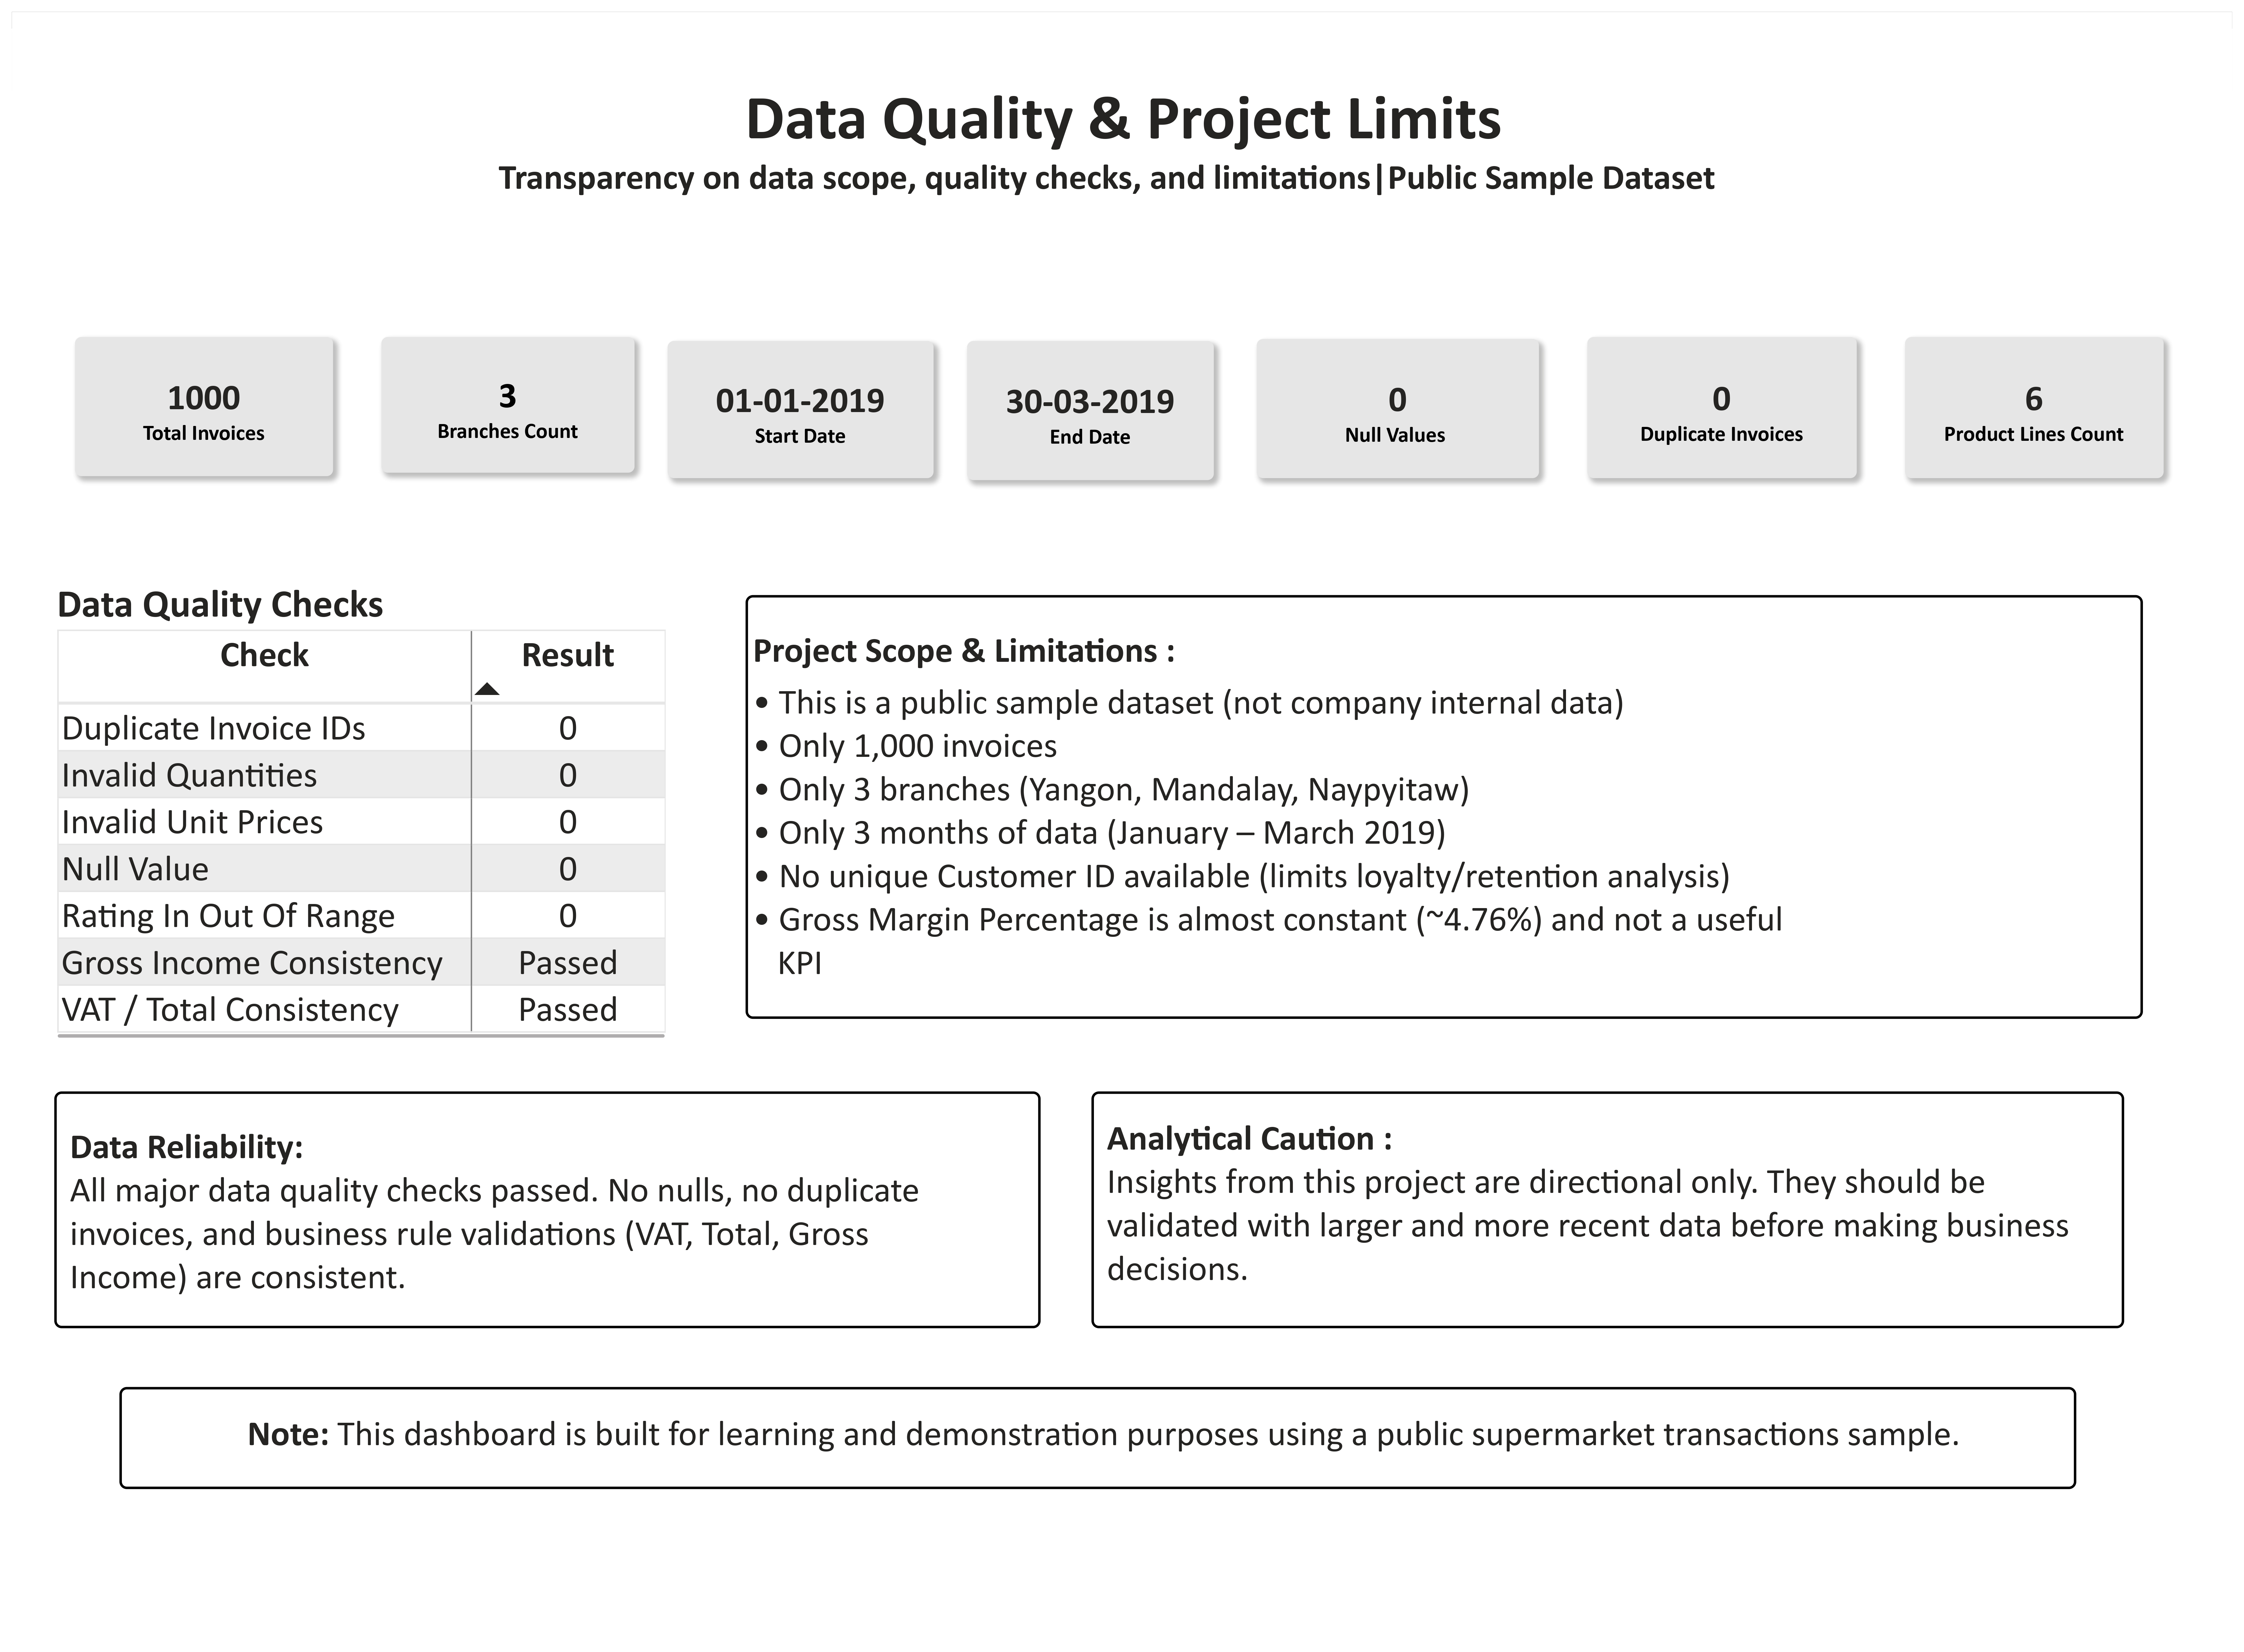

The dashboard page shown, as its layout file describes it:
{"tool":"powerbi","page":{"name":"Page 5","canvas":[4500,3300],"ordinal":4},"visuals":[{"type":"card","fields":{"Values":["super_market_retail.Total Invoices"]},"box":[128,659,523.4,282.4],"z":0},{"type":"card","fields":{"Values":["super_market_retail.Number of Branches"]},"box":[749.4,659,512.1,274.9],"z":1000},{"type":"card","fields":{"Values":["super_market_retail.Start Date"]},"box":[1329.3,666.5,538.5,278.7],"z":2000},{"type":"card","fields":{"Values":["super_market_retail.End Date"]},"box":[1935.6,666.5,500.8,282.4],"z":3000},{"type":"card","fields":{"Values":["super_market_retail.Null Values Found"]},"box":[2523,662.8,572.4,282.4],"z":4000},{"type":"card","fields":{"Values":["super_market_retail.Duplicate Invoices"]},"box":[3193.3,659,546,286.2],"z":5000},{"type":"card","fields":{"Values":["super_market_retail.Number of Product Lines"]},"box":[3837.2,659,523.4,286.2],"z":6000},{"type":"textbox","box":[390.4,128.7,3852.2,330.3],"z":7000},{"type":"tableEx","title":"Data Quality Checks","fields":{"Values":["Quality Checklist.Check","Quality Checklist.Result"]},"box":[85.8,1149.7,1244,935.2],"z":8000},{"type":"textbox","box":[1487.4,1182.4,2831.8,858.6],"z":9000},{"type":"textbox","box":[85.8,2187.8,1999,480.5],"z":9002},{"type":"textbox","box":[2187.8,2187.8,2093.4,480.5],"z":9003},{"type":"textbox","box":[218.4,2786.6,3965.3,207.1],"z":9004}]}

Visuals, with their boxes on the page's 4500x3300 design canvas (x1, y1, x2, y2). These are canvas units, not pixel positions in the 2244x1652 screenshot, which may show the page scaled, cropped or inside an application window:
card - super_market_retail.Total Invoices: [128,659,651,941]
card - super_market_retail.Number of Branches: [749,659,1262,934]
card - super_market_retail.Start Date: [1329,666,1868,945]
card - super_market_retail.End Date: [1936,666,2436,949]
card - super_market_retail.Null Values Found: [2523,663,3095,945]
card - super_market_retail.Duplicate Invoices: [3193,659,3739,945]
card - super_market_retail.Number of Product Lines: [3837,659,4361,945]
textbox: [390,129,4243,459]
"Data Quality Checks" tableEx: [86,1150,1330,2085]
textbox: [1487,1182,4319,2041]
textbox: [86,2188,2085,2668]
textbox: [2188,2188,4281,2668]
textbox: [218,2787,4184,2994]
